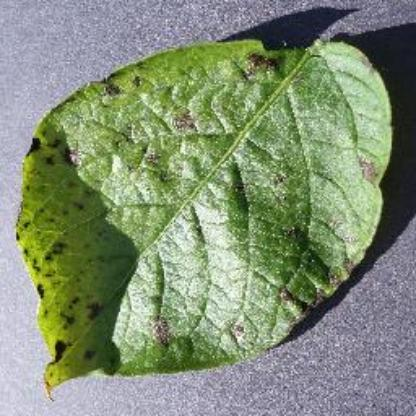Early-Blight: (18, 32, 400, 390)
